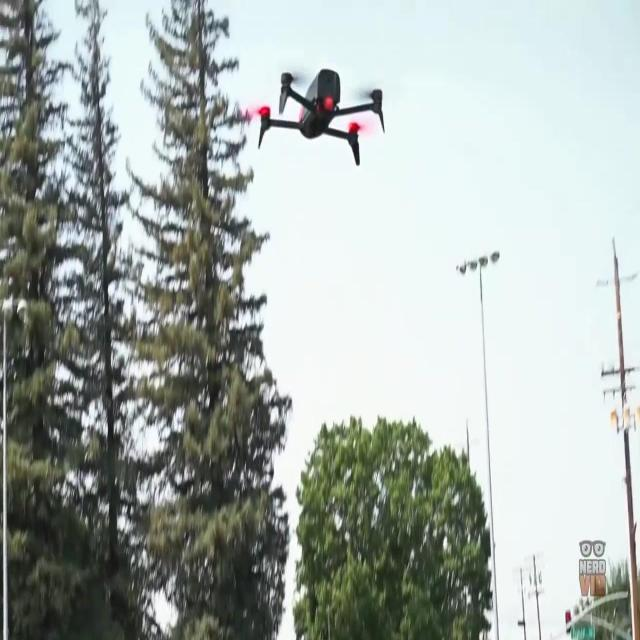drone: (252, 64, 386, 168)
